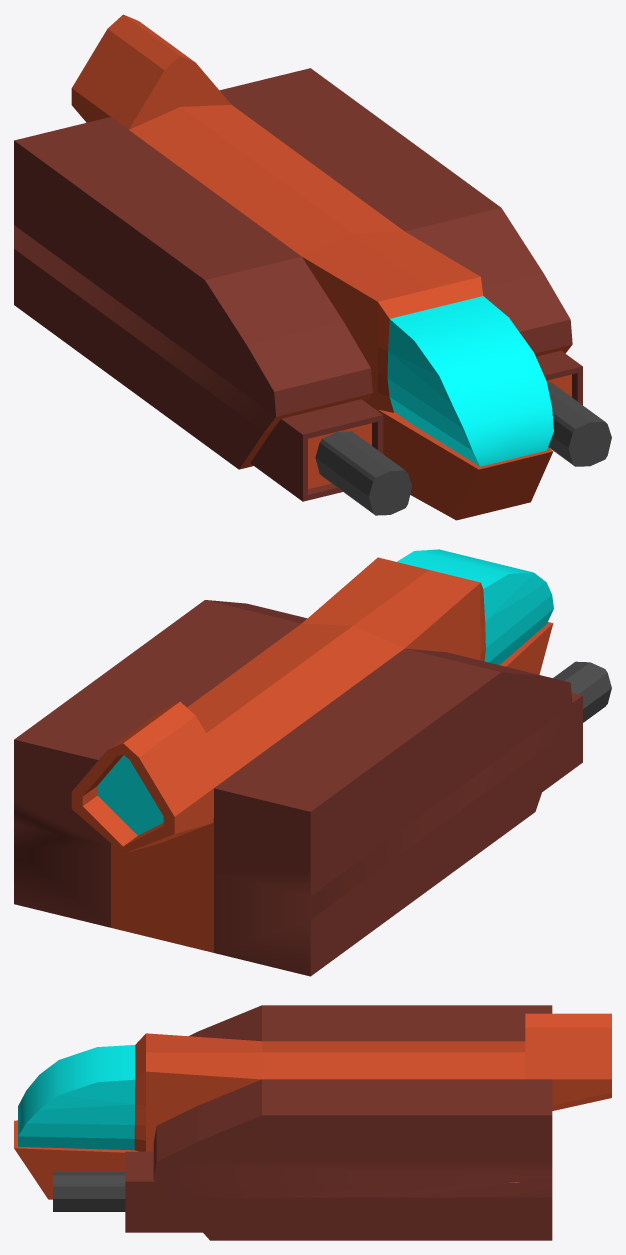
File: 4_Body.fbx
3 views of the same model, one above another, from view 1: azimuth 30°, elevation 25°; view 2: azimuth 150°, elevation 25°; view 3: azimuth 270°, elevation 25° (orthographic). The views are drawn at different scales.
Visible parts, largest first — view 1: 4_Body; view 2: 4_Body; view 3: 4_Body.
Boxes of the visible parts, x1,y1,x2,y2 form: 4_Body: (14,14,611,520); 4_Body: (14,549,611,976); 4_Body: (14,1005,611,1240).
Bounding box in the file's own units: 1.25 × 0.9055 × 2.86.
1 material, 1 textured.
